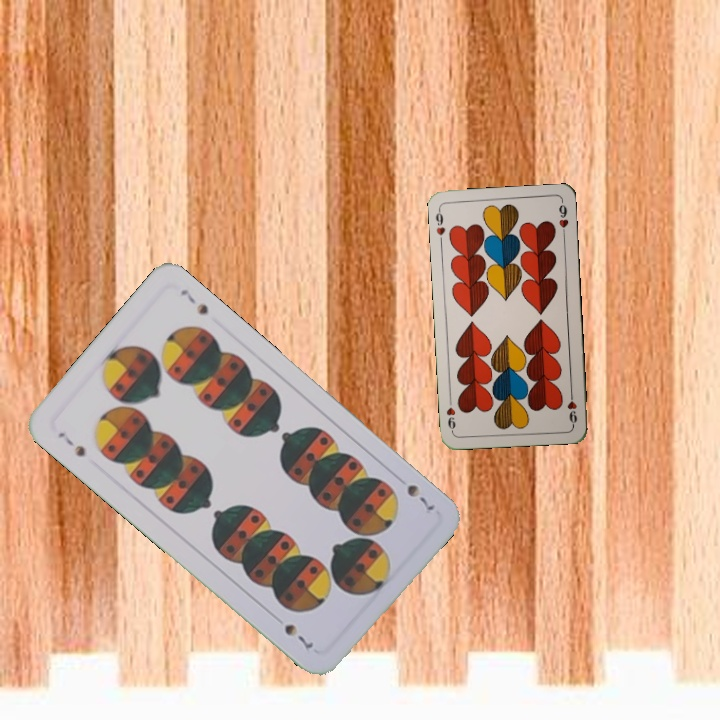H9: (563, 387, 580, 427), (431, 205, 448, 245)
S7: (402, 480, 437, 517), (53, 427, 88, 460)
